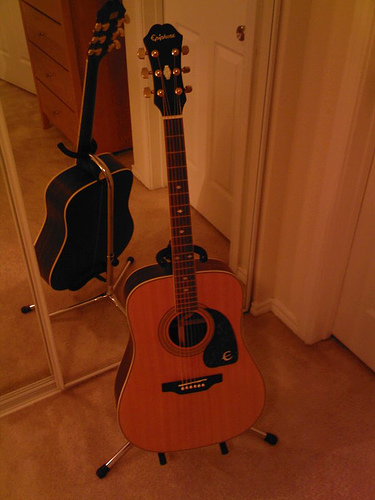guitar: (114, 22, 268, 455), (30, 3, 135, 290)
